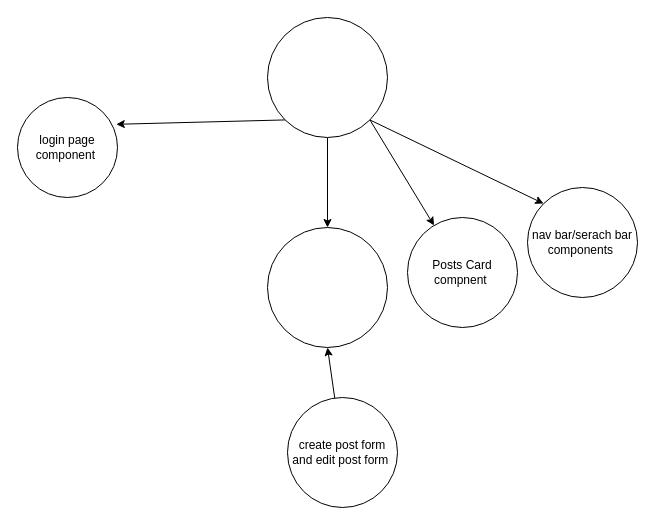
Some shapes in this 655 by 525 pixel diagram are drawn without their labels. The centre of each missing label's shape, as x and y in pixels:
"App Fetchs" belongs at (327,77).
"users page with thier individual posts will also have edit and delete button" belongs at (327,287).
